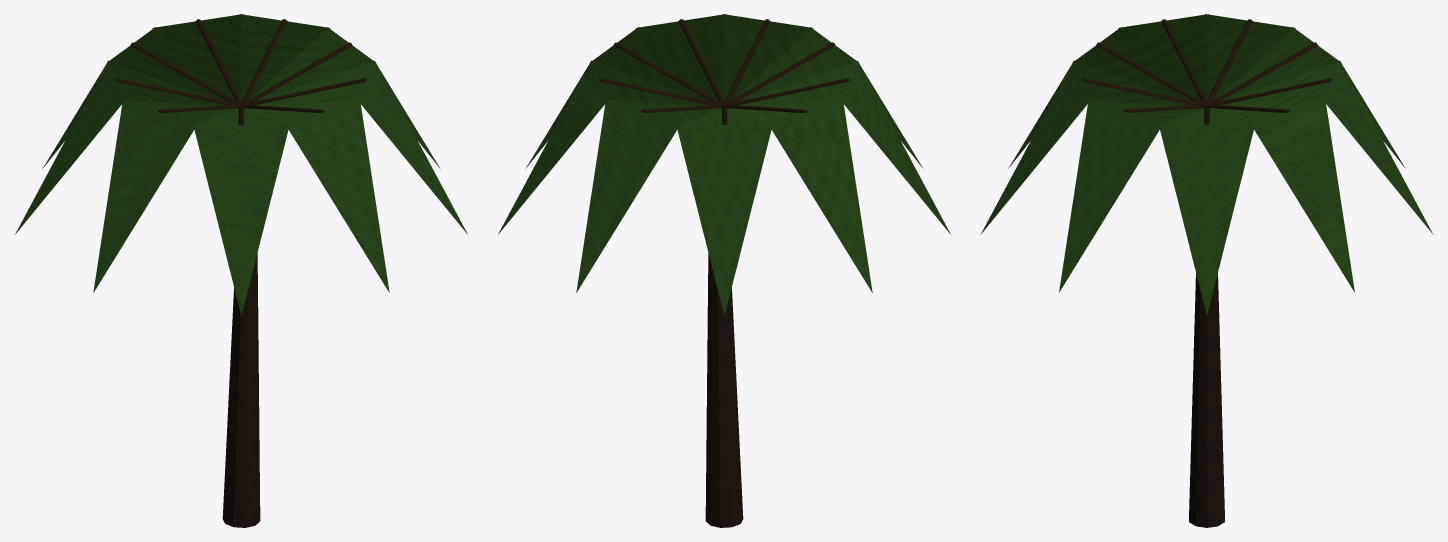
Rendered from PROP-EDA374C629E4_lod1.glb.
3 renders of one model, left to right at view 1: azimuth 30°, elevation 25°; view 2: azimuth 150°, elevation 25°; view 3: azimuth 270°, elevation 25°, orthographic.
Parts seen in each view (by area): view 1: palm_frond.003, trunk.081, palm_frond_spine.003; view 2: palm_frond.003, trunk.081, palm_frond_spine.003; view 3: palm_frond.003, trunk.081, palm_frond_spine.003.
Boxes of the visible parts, x1=… form: palm_frond.003: x1=15, y1=14, x2=467, y2=315; trunk.081: x1=222, y1=253, x2=260, y2=527; palm_frond_spine.003: x1=116, y1=19, x2=366, y2=124; palm_frond.003: x1=498, y1=14, x2=950, y2=315; trunk.081: x1=705, y1=253, x2=743, y2=527; palm_frond_spine.003: x1=599, y1=19, x2=849, y2=124; palm_frond.003: x1=980, y1=14, x2=1433, y2=314; trunk.081: x1=1189, y1=273, x2=1224, y2=527; palm_frond_spine.003: x1=1082, y1=19, x2=1331, y2=124.
Size of the model in its own units: 5.65 by 6.3 by 5.74.
2 materials, 2 textured.
